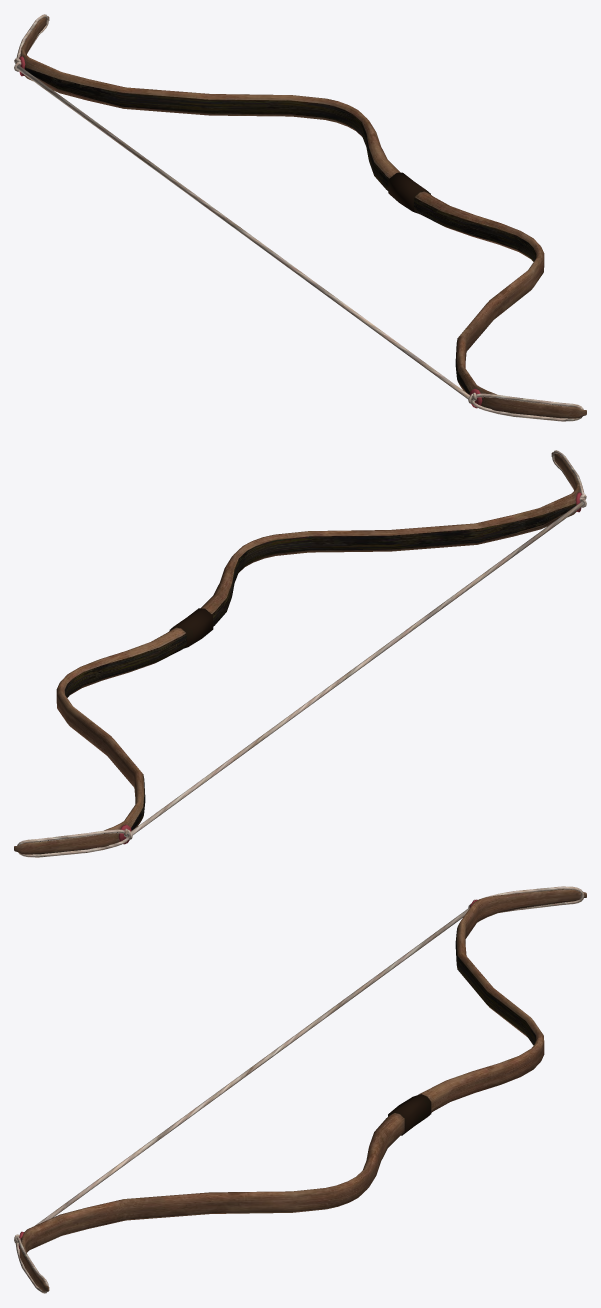
Rendered from bow.glb.
The picture shows the model from 3 angles, top to bottom: view 1: azimuth 30°, elevation 25°; view 2: azimuth 150°, elevation 25°; view 3: azimuth 330°, elevation 25°; orthographic projection.
Visible parts, largest first — view 1: SM_Bow; view 2: SM_Bow; view 3: SM_Bow.
Boxes of the visible parts, box(x1,y1,x2,y2) form: SM_Bow: box(14, 14, 586, 421); SM_Bow: box(14, 450, 586, 857); SM_Bow: box(14, 886, 586, 1293).
Size of the model in its own units: 0.244 by 0.0269 by 1.1.
1 material, 1 textured.
